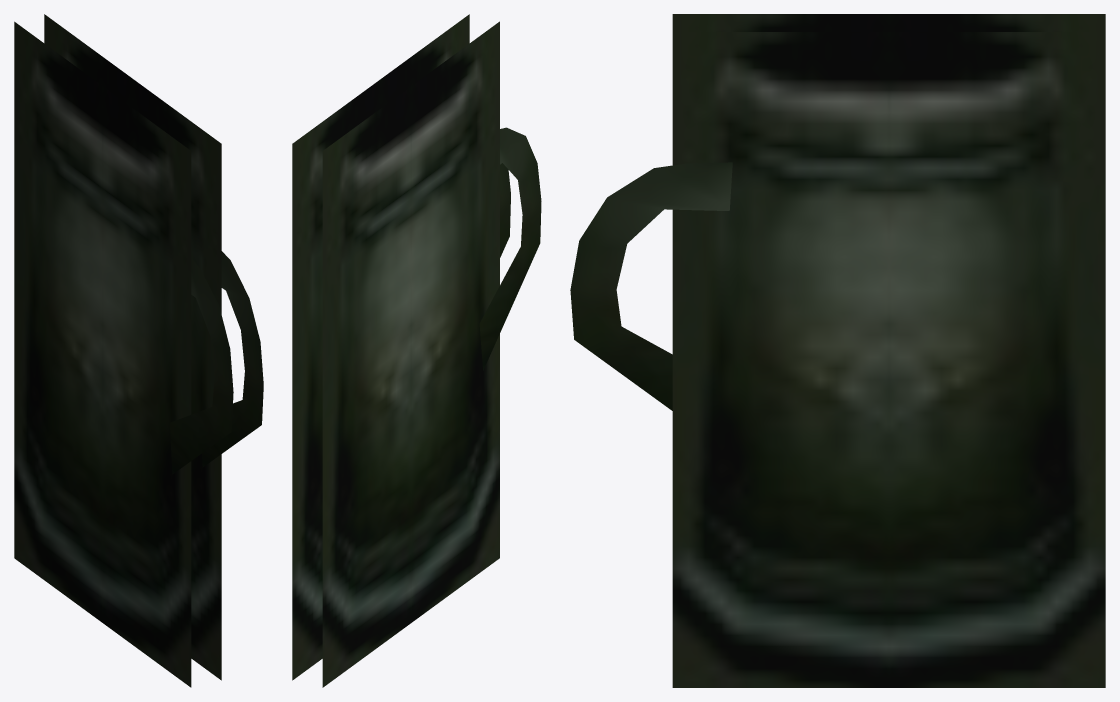
File: sign1_spanish_a_icon_tavern.fbx
The picture shows the model from 3 angles, left to right: view 1: azimuth 30°, elevation 25°; view 2: azimuth 150°, elevation 25°; view 3: azimuth 270°, elevation 25°; orthographic projection. The views are drawn at different scales.
Visible parts, largest first — view 1: stein, stein_handle, stein_handle2; view 2: stein, stein_handle, stein_handle2; view 3: stein, stein_handle2.
Boxes of the visible parts, left/top/right/bottom form: stein: left=14, top=14, right=221, bottom=687; stein_handle: left=170, top=258, right=233, bottom=474; stein_handle2: left=202, top=251, right=263, bottom=467; stein: left=292, top=14, right=499, bottom=687; stein_handle: left=479, top=127, right=541, bottom=370; stein_handle2: left=500, top=163, right=510, bottom=257; stein: left=672, top=14, right=1105, bottom=687; stein_handle2: left=570, top=162, right=732, bottom=410.
Size of the model in its own units: 18.07 by 284 by 210.
1 material, 1 textured.
